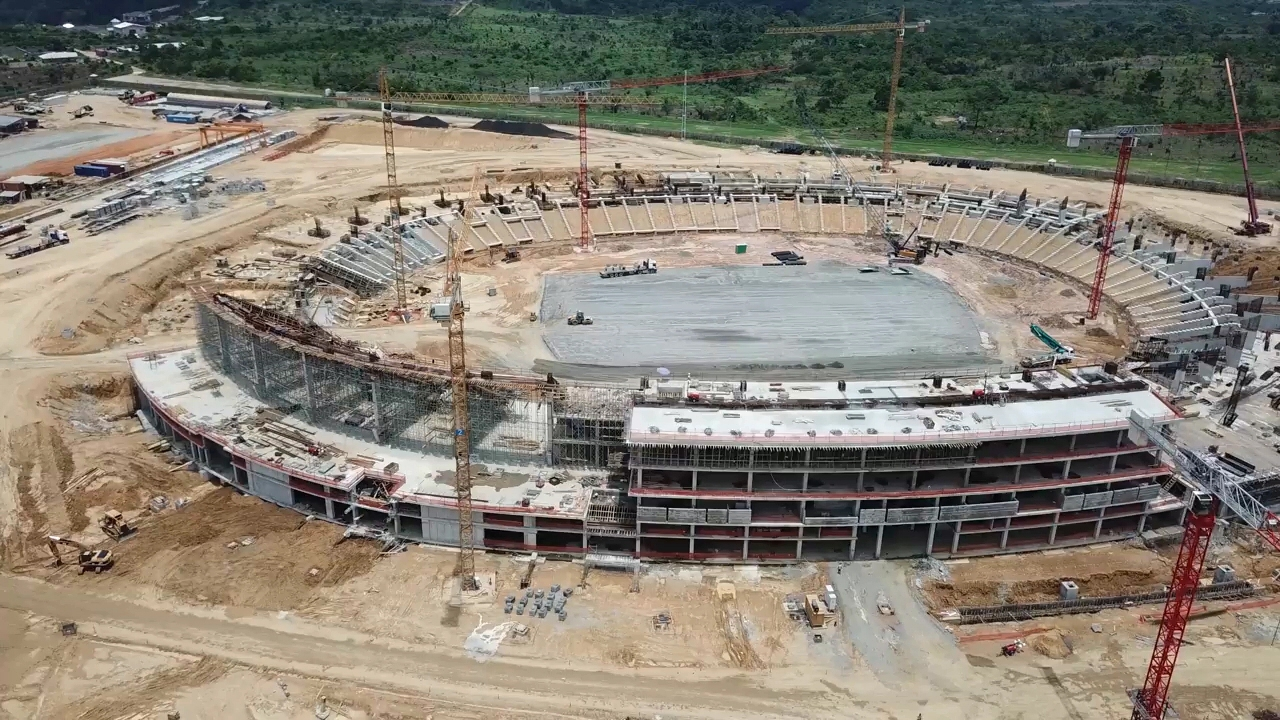ismakinesi: (42, 527, 114, 582), (96, 502, 137, 540)
kamyon: (597, 255, 665, 280)
